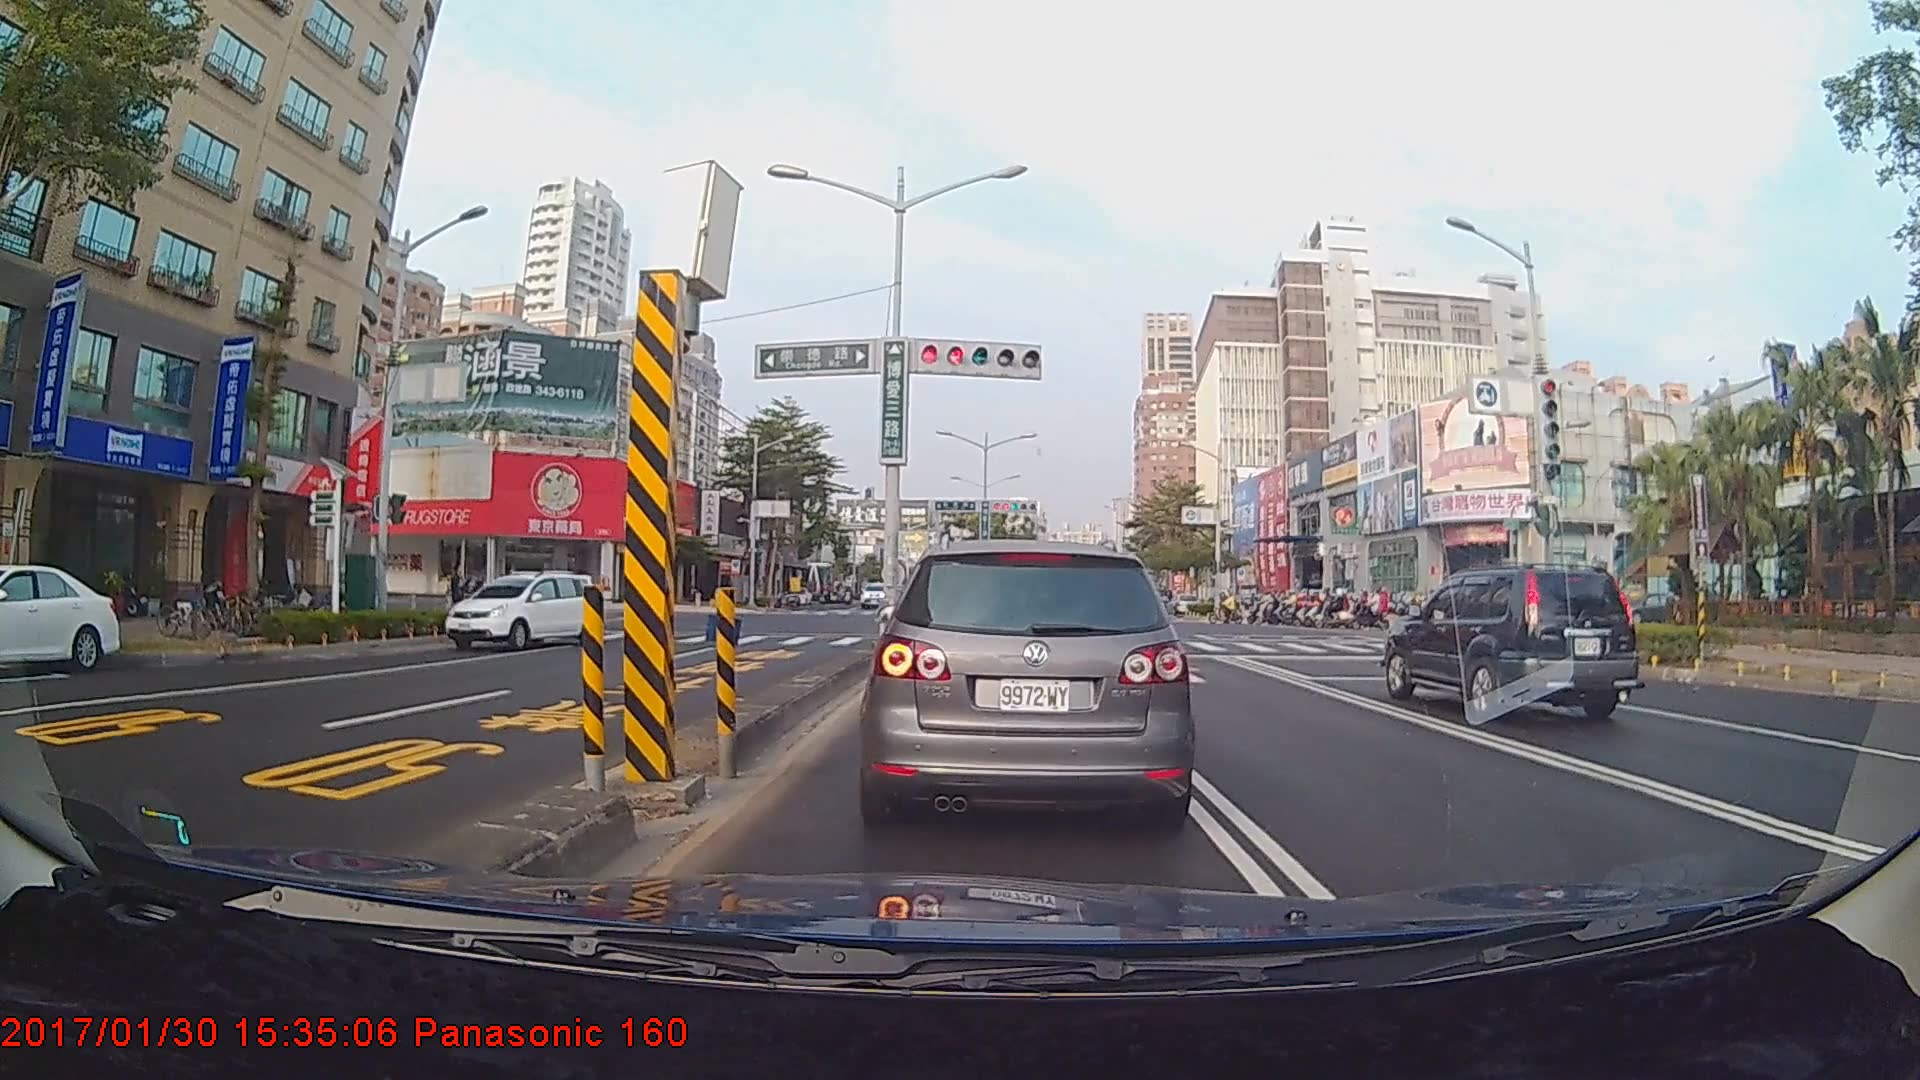pedestrian: (447, 566, 467, 629)
vehicle: (854, 525, 1199, 831), (1383, 561, 1638, 721), (0, 564, 125, 676), (443, 571, 599, 652)
